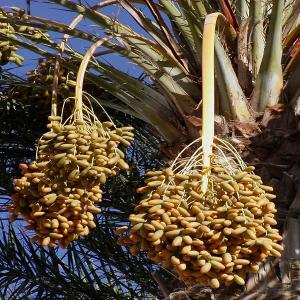palm tree: (0, 0, 298, 299)
